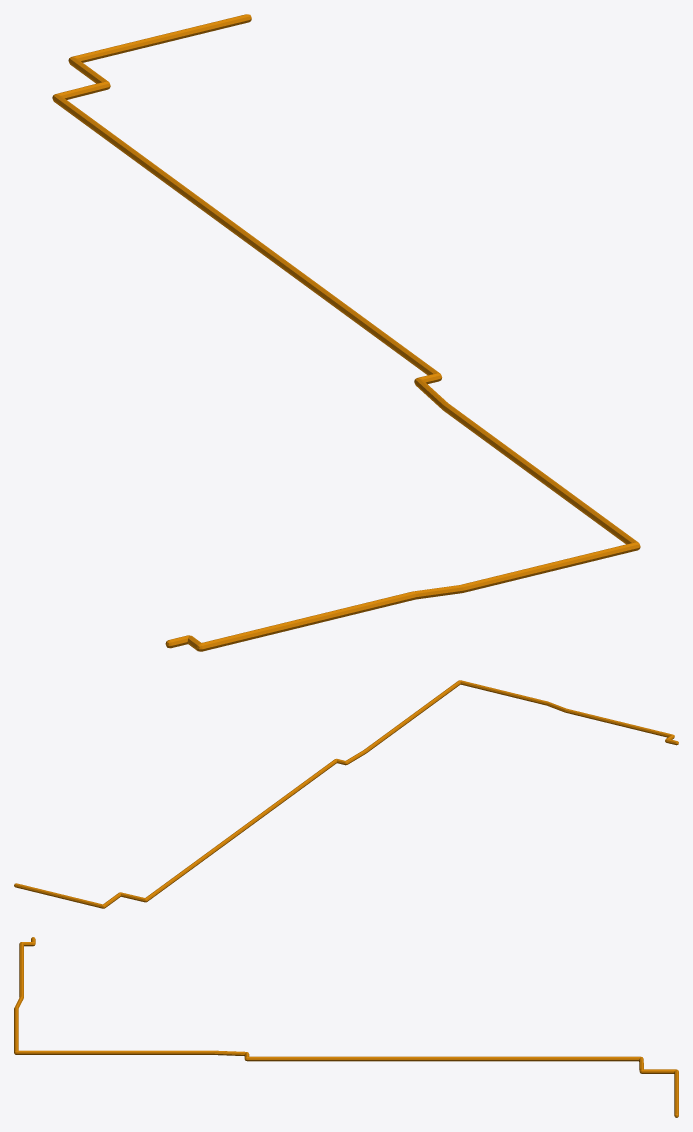
The picture shows the model from 3 angles, top to bottom: view 1: azimuth 30°, elevation 25°; view 2: azimuth 150°, elevation 25°; view 3: azimuth 270°, elevation 25°; orthographic projection. The views are drawn at different scales.
Size of the model in its own units: 1821 by 20 by 2866.
